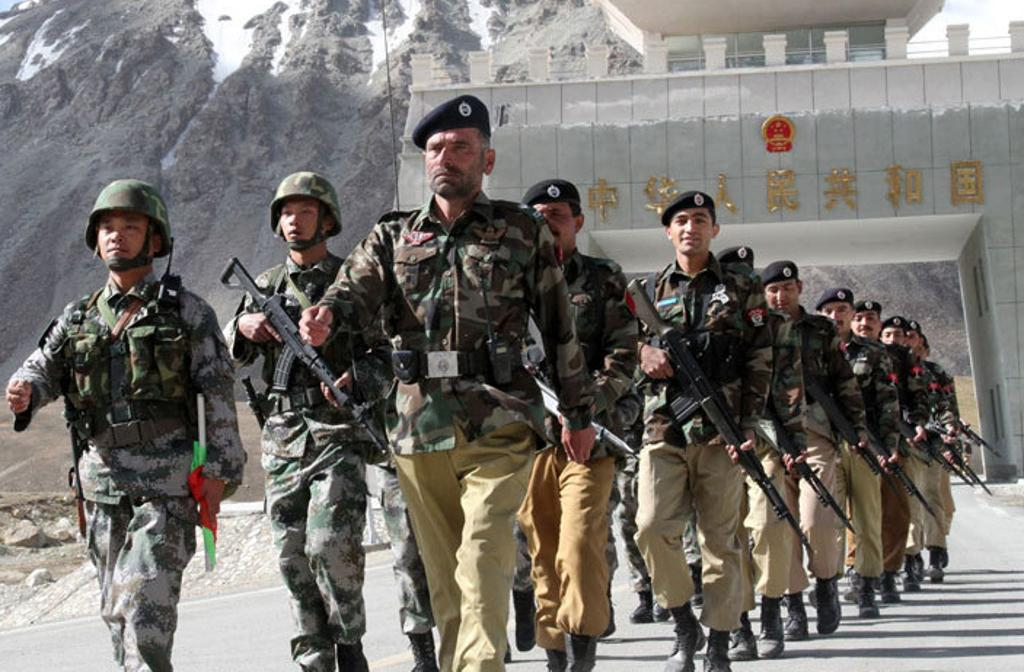face: (426, 128, 485, 198), (99, 203, 148, 269), (278, 193, 324, 252), (527, 200, 577, 253), (672, 206, 713, 253), (764, 276, 800, 317), (821, 298, 853, 335), (850, 306, 882, 342), (882, 323, 906, 353), (907, 327, 921, 355), (916, 340, 928, 364)
